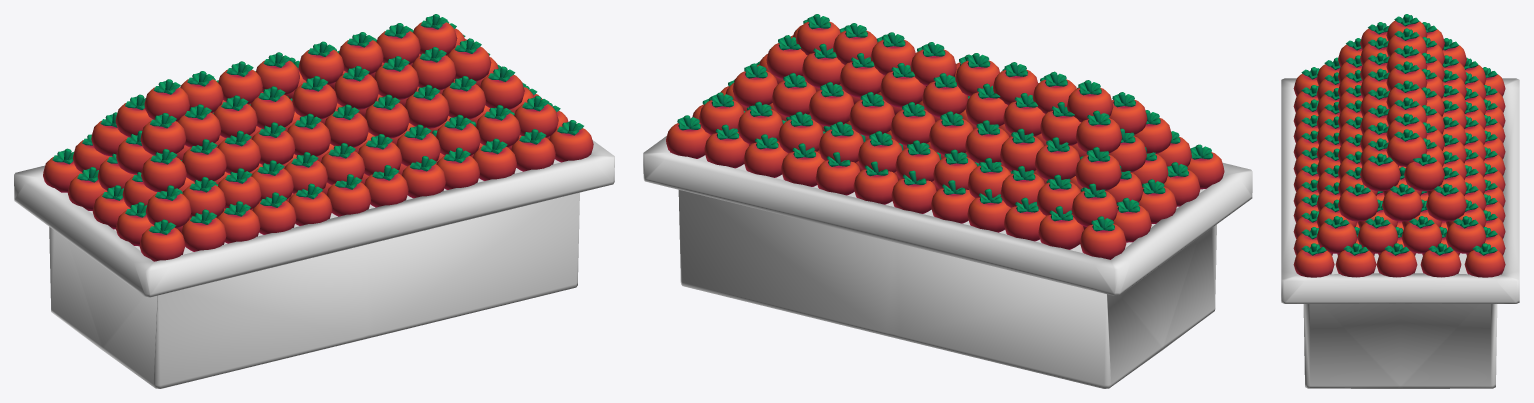
Rendered from VegSation.glb.
3 renders of one model, left to right at view 1: azimuth 30°, elevation 25°; view 2: azimuth 150°, elevation 25°; view 3: azimuth 270°, elevation 25°, orthographic. The views are drawn at different scales.
Visible parts, largest first — view 1: Tomatos, Cube; view 2: Tomatos, Cube; view 3: Tomatos, Cube.
Boxes of the visible parts, x1,y1,x2,y2 form: Tomatos: (43, 14, 593, 261); Cube: (14, 140, 614, 388); Tomatos: (666, 14, 1224, 259); Cube: (643, 117, 1252, 388); Tomatos: (1293, 14, 1505, 277); Cube: (1281, 78, 1519, 388).
Bounding box in the file's own units: 3.75 × 1.92 × 1.86.
160 materials, 160 textured.
